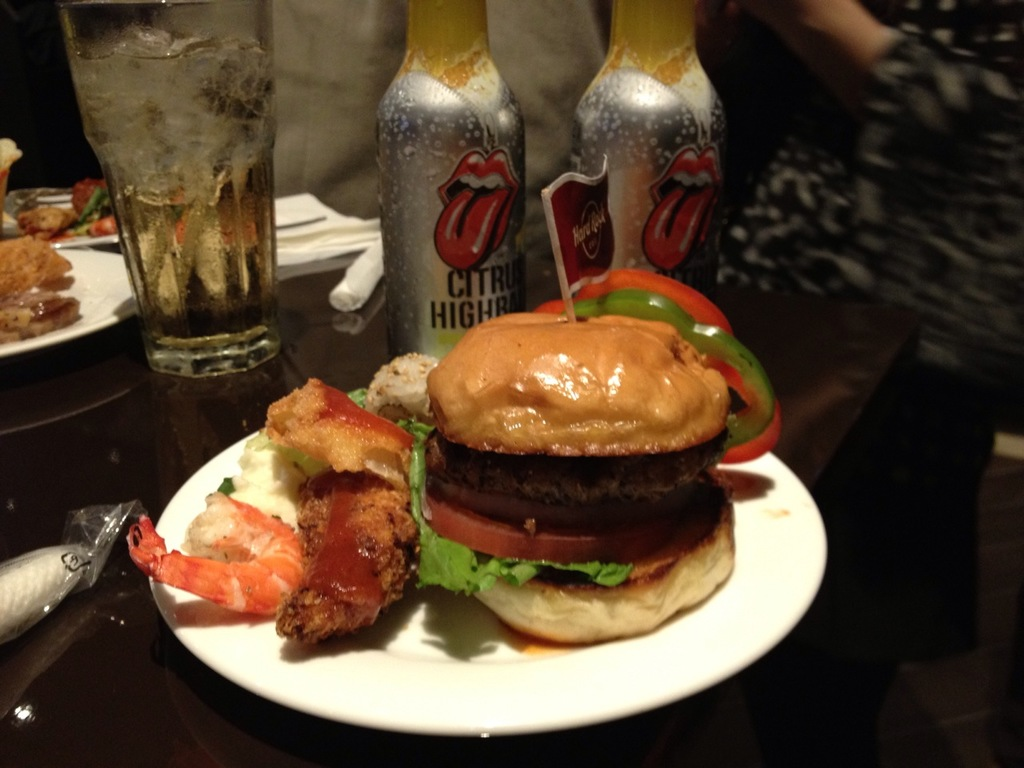Hamburger: (408, 314, 738, 646)
